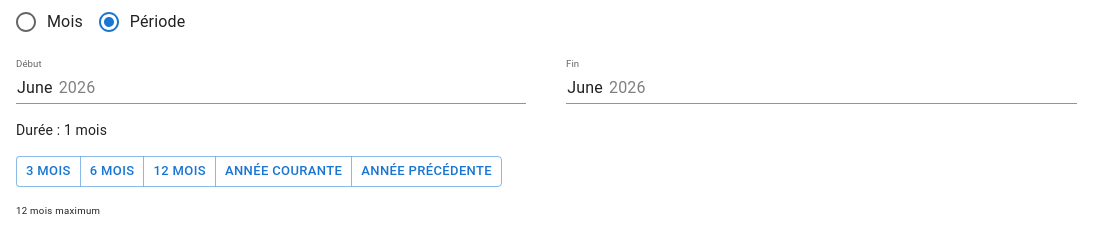
Test: AnalysesFiltrePeriodeComponent › raccourcis de période › "3 mois" : 3 derniers mois jusqu au mois courant, début borné au min de l intervalle
Click the button "3 mois".
click(48, 171)  # box [16,156,81,187]
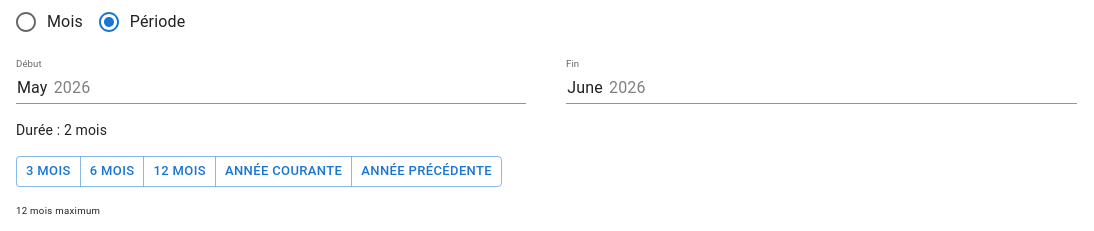
Expected: the field labelled "Fin" holds "2026-06", [566,75,1077,104]
Now the field labelled "Début" holds "2026-05", box [16,75,526,104]
Now the text "Durée : 2 mois" is shown, box [16,122,107,138]
